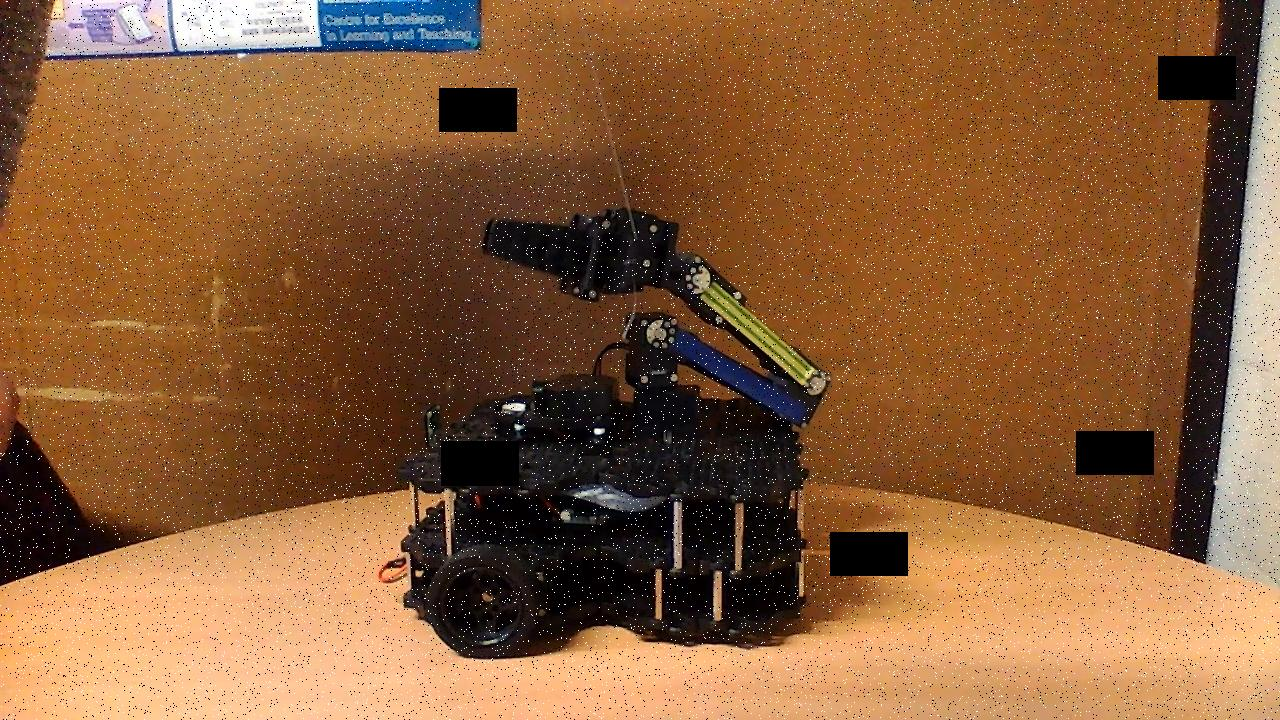Arm: (643, 312, 813, 431)
Hand: (476, 205, 695, 309)
Wrist: (680, 256, 829, 394)
base: (375, 370, 815, 664)
